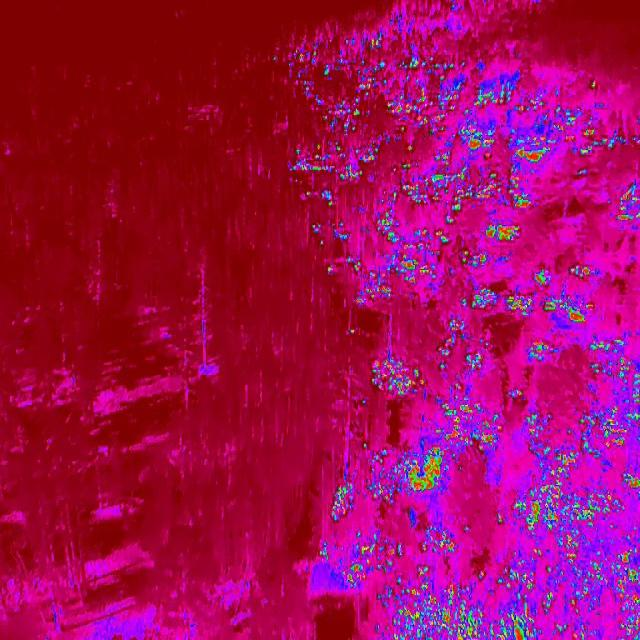fire: (289, 17, 466, 222), (316, 221, 606, 321), (467, 70, 640, 221), (514, 388, 640, 548), (494, 546, 637, 640), (430, 321, 510, 451), (368, 580, 541, 640), (329, 447, 452, 522), (323, 530, 404, 594), (368, 351, 434, 404), (415, 530, 458, 580), (590, 338, 640, 380), (520, 338, 558, 364)
